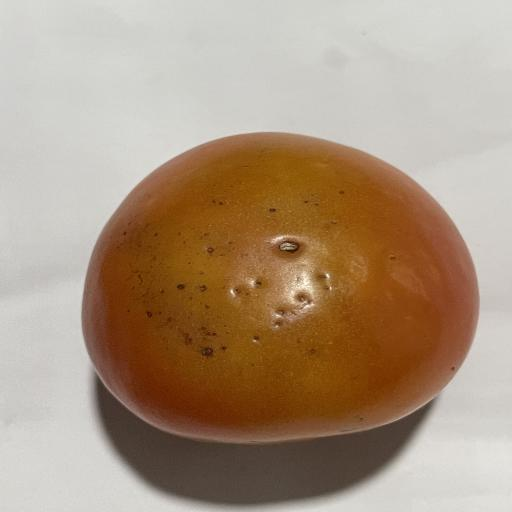ripe: (82, 133, 478, 444)
